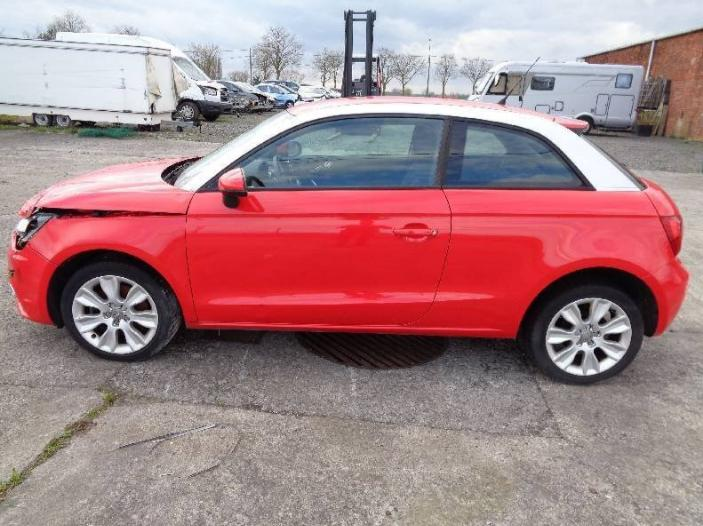Back-bumper: (643, 257, 690, 336)
Back-wheel: (527, 278, 644, 382)
Back-window: (444, 120, 583, 186)
Back-windshield: (581, 134, 645, 191)
Fender: (27, 215, 197, 320)
Front-bumper: (7, 244, 58, 325)
Front-door: (185, 113, 451, 325)
Front-wheel: (61, 254, 183, 363)
Front-window: (230, 118, 444, 186), (208, 179, 218, 189)
Headlight: (12, 212, 54, 250)
Hood: (18, 156, 195, 217)
Mirror: (218, 168, 246, 206)
Quarter-panel: (398, 189, 674, 330)
Rocker-panel: (185, 322, 516, 338)
Roof: (285, 95, 555, 132)
Tail-light: (659, 214, 683, 259)
Trunk: (641, 179, 680, 216), (554, 117, 588, 136)
Windshield: (174, 111, 304, 191)
